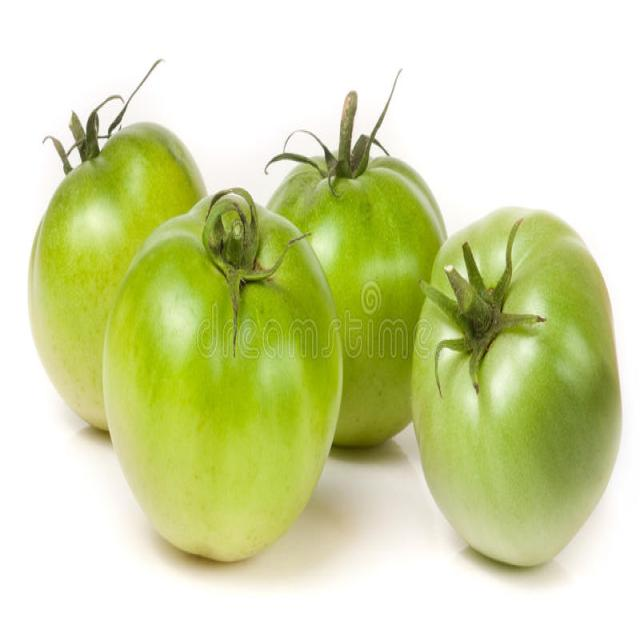yesil: (27, 86, 622, 571)
